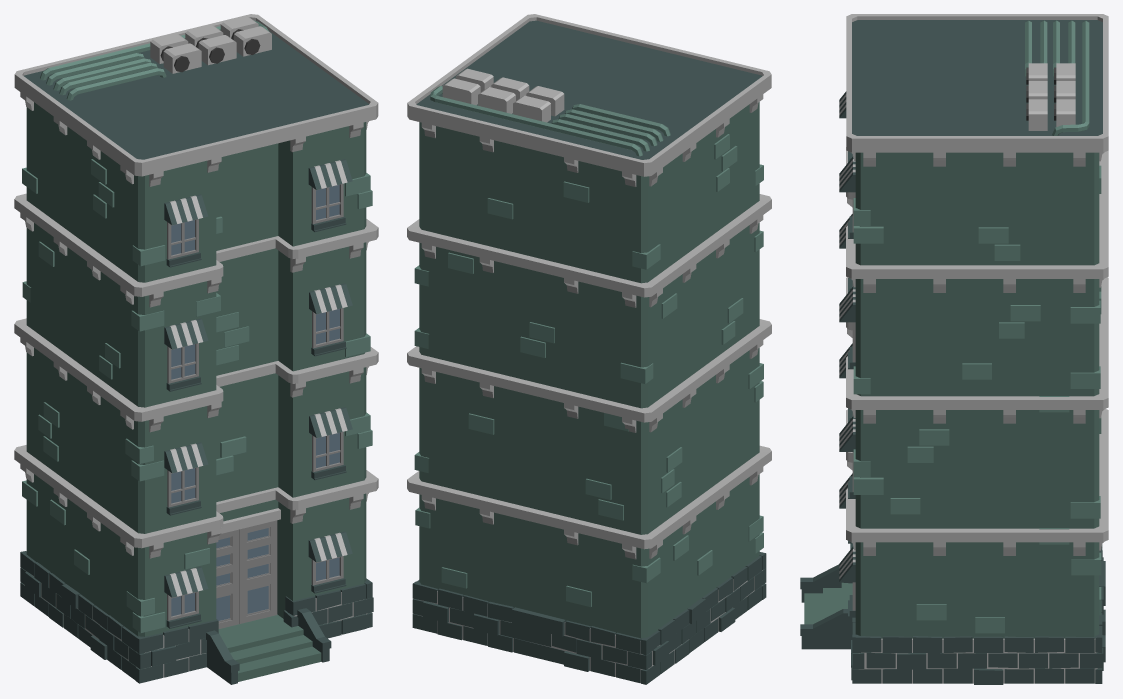
File: market.glb
3 renders of one model, left to right at view 1: azimuth 30°, elevation 25°; view 2: azimuth 150°, elevation 25°; view 3: azimuth 270°, elevation 25°, orthographic. The views are drawn at different scales.
Parts seen in each view (by area): view 1: 4Story_Center_Mat; view 2: 4Story_Center_Mat; view 3: 4Story_Center_Mat.
Part boxes in pixels (<box>): 4Story_Center_Mat: <box>14,14,378,684</box>; 4Story_Center_Mat: <box>407,14,771,684</box>; 4Story_Center_Mat: <box>800,14,1108,684</box>.
Bounding box in the file's own units: 2.42 × 5.09 × 2.53.
